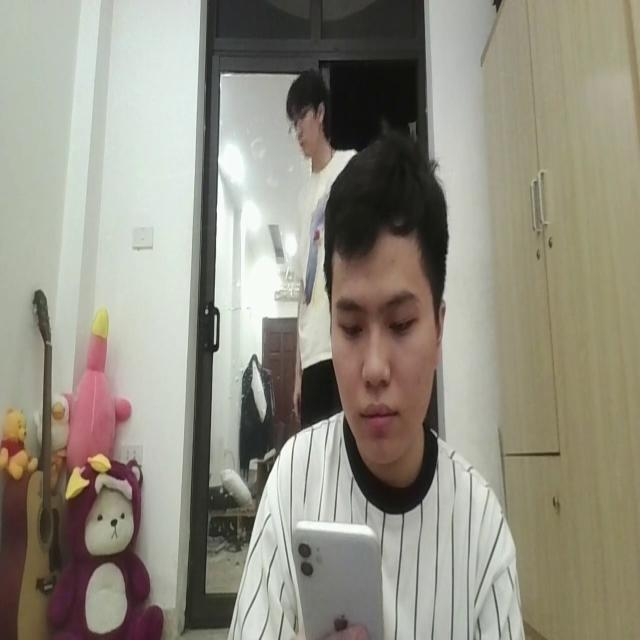extra_person: (288, 75, 352, 428)
student: (226, 135, 522, 640)
